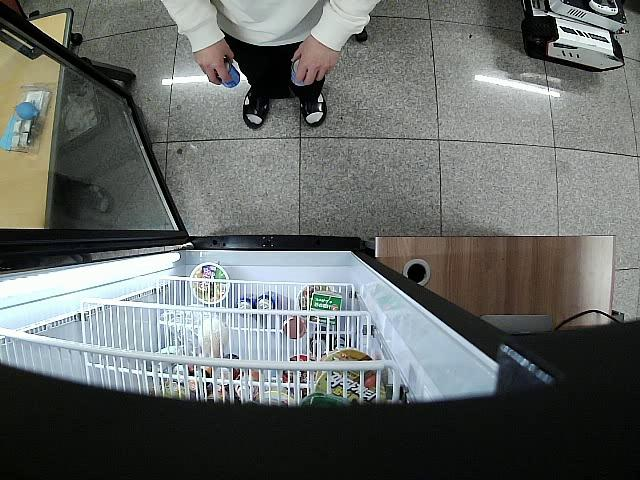00_hand: (292, 32, 341, 86), (193, 37, 233, 84)
15_letsbe: (217, 59, 241, 89), (290, 57, 306, 88)
